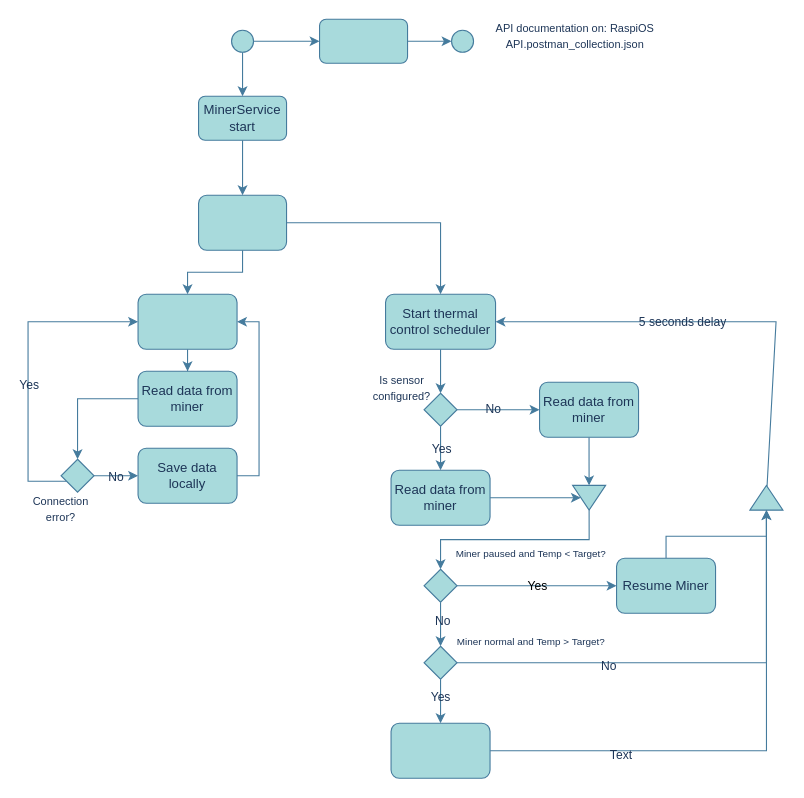
The diagram is 804 pixels wide and 798 high, and some of its shapes have lost their labels. Here are the shapes that lost their labels. From the top down, the centre of each, then its label:
At (363,40): "WebService start".
At (242,222): "Load registered miners".
At (187,321): "Start reading data scheduler".
At (440,750): "Pause Miner".
